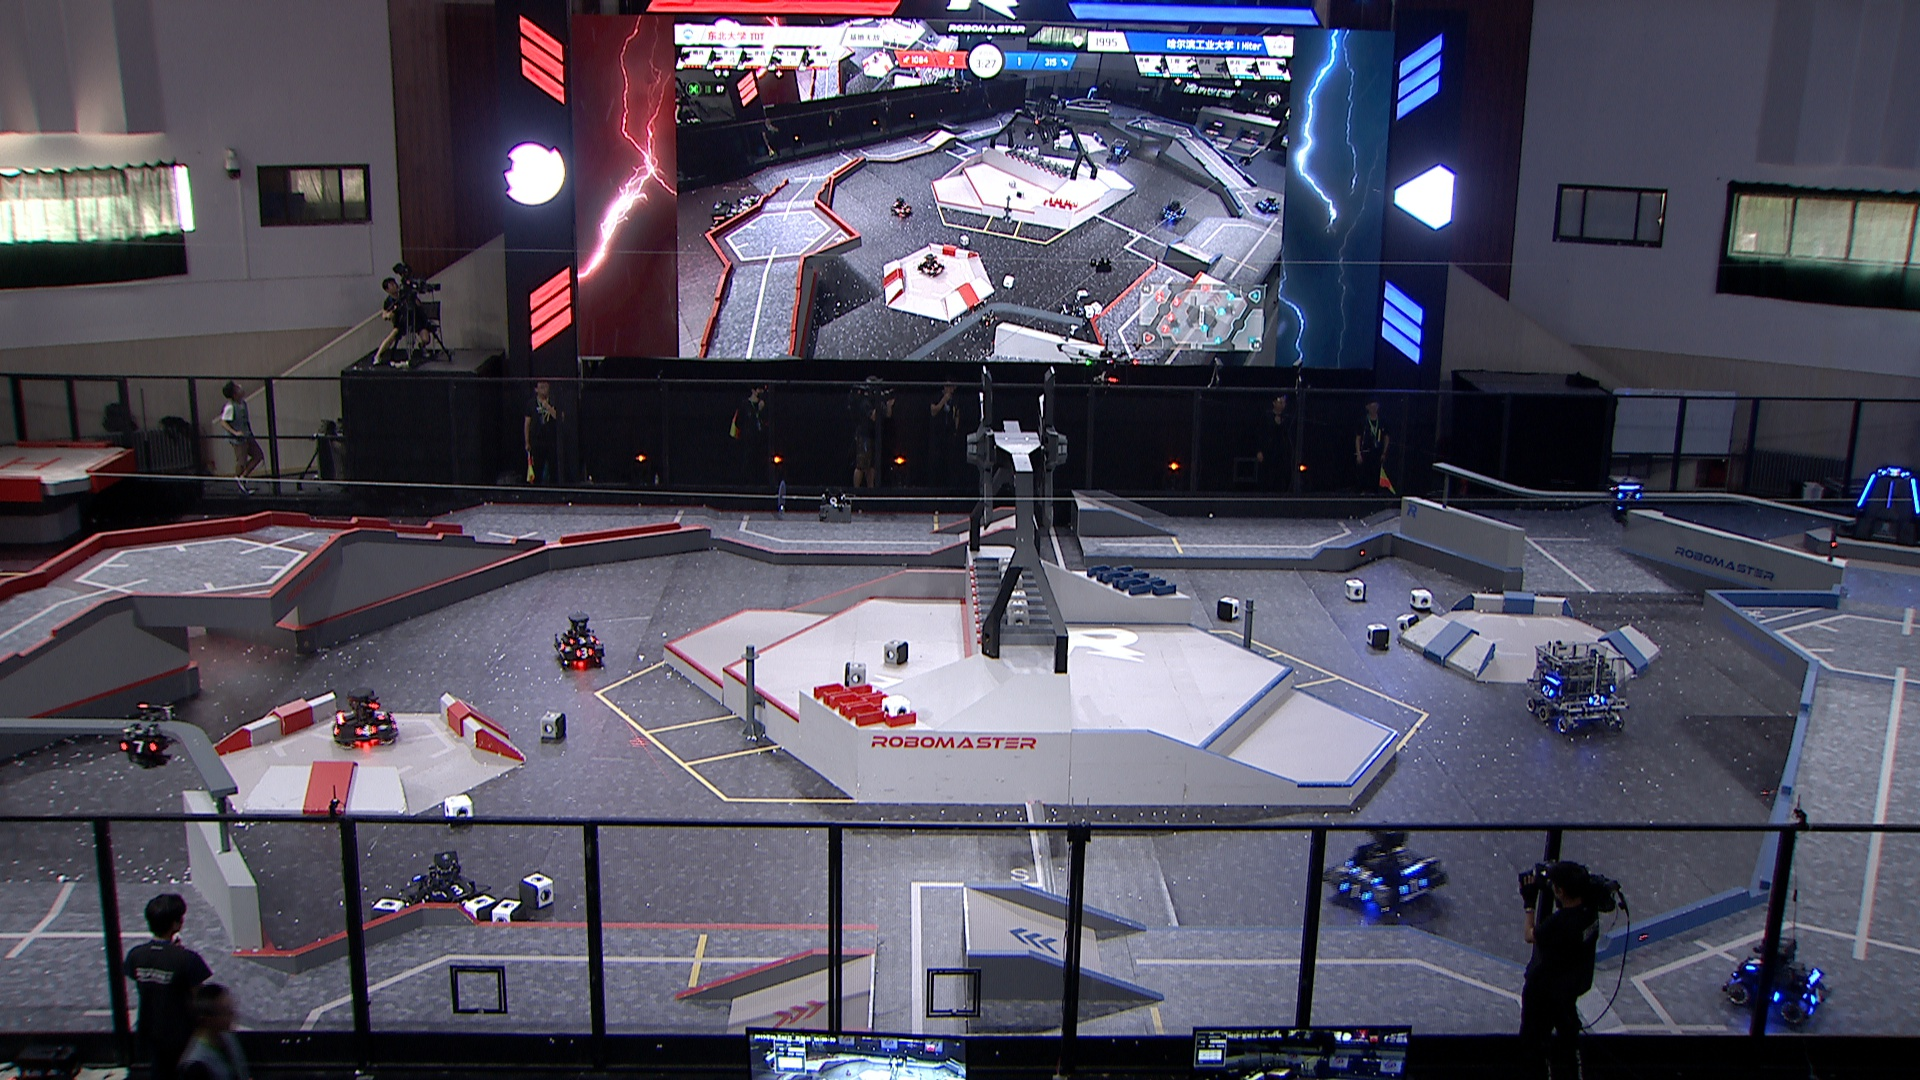armor: (1854, 471, 1876, 512), (440, 880, 472, 902), (117, 737, 156, 756), (1338, 880, 1370, 899), (1348, 865, 1381, 884), (1400, 877, 1429, 895), (1908, 475, 1920, 514), (1884, 480, 1898, 512), (1539, 680, 1556, 699), (1882, 465, 1905, 479), (1807, 989, 1826, 1004), (1747, 953, 1760, 975), (1618, 491, 1640, 502), (1586, 694, 1604, 708), (575, 647, 595, 659), (357, 725, 377, 737), (372, 707, 389, 719), (570, 636, 595, 644), (556, 638, 567, 654), (332, 721, 340, 736)
base: (1836, 460, 1920, 546)
car: (1323, 816, 1449, 920), (1523, 638, 1629, 738), (1722, 935, 1832, 1030), (400, 849, 489, 916), (327, 687, 396, 746), (549, 612, 605, 669)
ignore: (702, 200, 746, 237), (969, 301, 1000, 328), (1102, 138, 1133, 164), (1158, 200, 1188, 224), (736, 193, 764, 218), (918, 253, 944, 277), (887, 195, 913, 219), (1255, 193, 1280, 215)
watcher: (112, 702, 183, 770), (1604, 471, 1646, 533)
